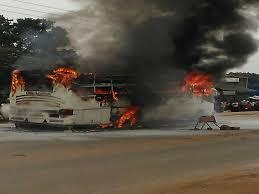fire: (96, 88, 140, 127), (181, 69, 217, 96), (46, 64, 81, 86), (10, 68, 27, 91)
